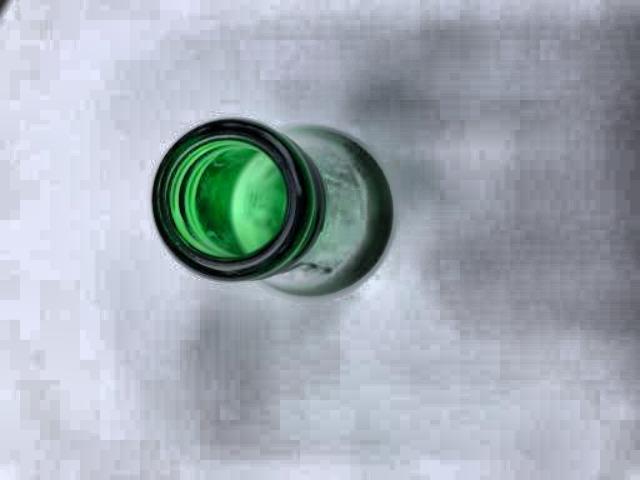Bottles: (134, 78, 416, 319)
